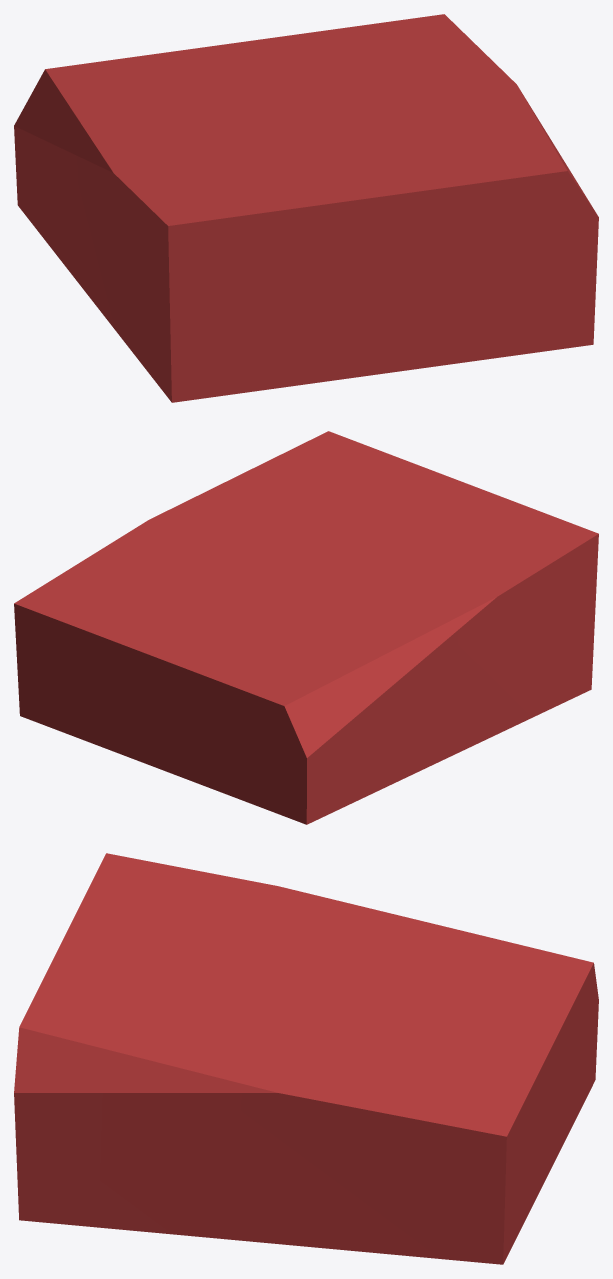
The model's file is ea_arch_wall03_rubble_01b_pre__20__8_lev1.glb.
The picture shows the model from 3 angles, top to bottom: view 1: azimuth 30°, elevation 25°; view 2: azimuth 150°, elevation 25°; view 3: azimuth 270°, elevation 25°; orthographic projection. The views are drawn at different scales.
Parts seen in each view (by area): view 1: ea_arch_wall03_rubble_01b_pre__20__8_lev1; view 2: ea_arch_wall03_rubble_01b_pre__20__8_lev1; view 3: ea_arch_wall03_rubble_01b_pre__20__8_lev1.
Part boxes in pixels (<box>): ea_arch_wall03_rubble_01b_pre__20__8_lev1: <box>14,14,598,402</box>; ea_arch_wall03_rubble_01b_pre__20__8_lev1: <box>14,431,598,824</box>; ea_arch_wall03_rubble_01b_pre__20__8_lev1: <box>14,853,598,1264</box>.
Size of the model in its own units: 0.3035 by 0.1101 by 0.3222.
Materials: 1 (1 with a texture image).
